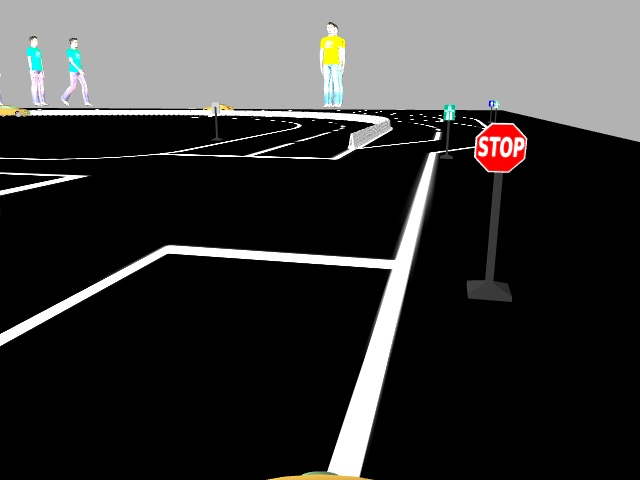Stop: (474, 122, 527, 172)
